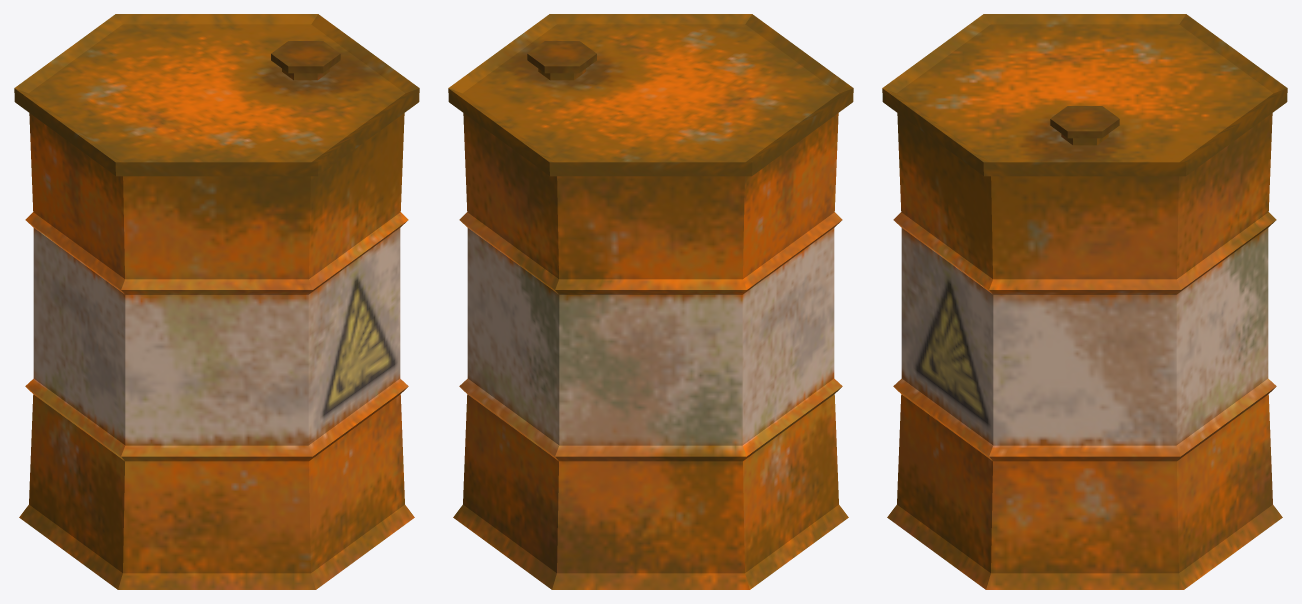
Rendered from ExplosiveBarrel.fbx.
The picture shows the model from 3 angles, left to right: view 1: azimuth 30°, elevation 25°; view 2: azimuth 150°, elevation 25°; view 3: azimuth 270°, elevation 25°; orthographic projection.
Visible parts, largest first — view 1: Barrel; view 2: Barrel; view 3: Barrel.
Part boxes in pixels (x1,y1,x2,y2): Barrel: (14, 14, 419, 589); Barrel: (448, 14, 853, 589); Barrel: (882, 14, 1287, 589).
Bounding box in the file's own units: 93.1 × 129 × 108.
1 material, 1 textured.
